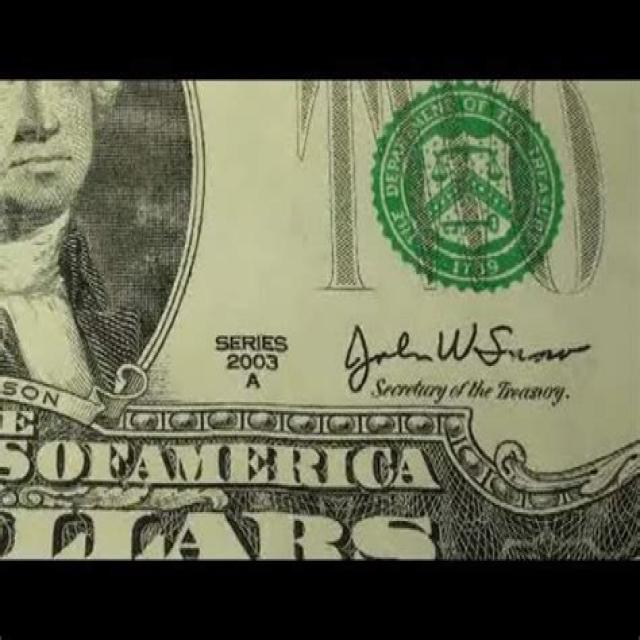Two: (0, 75, 640, 561)
